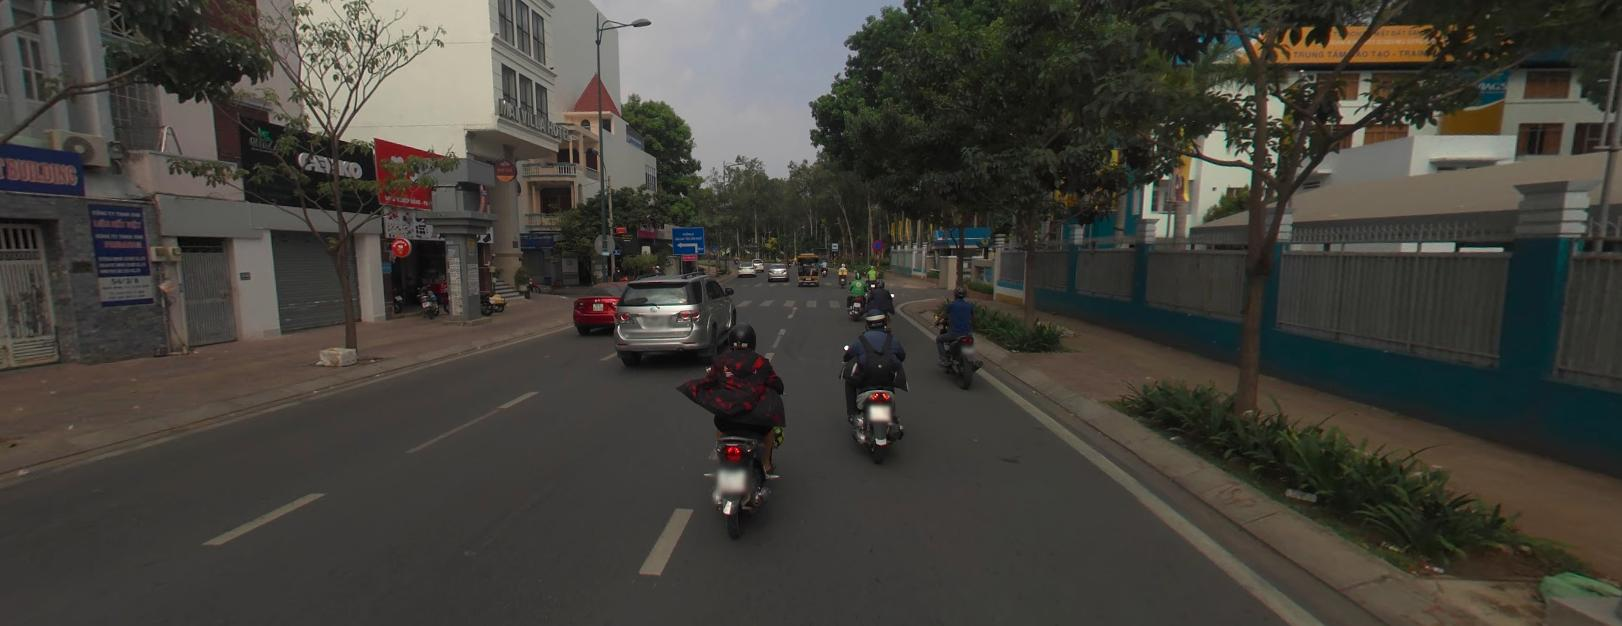Cam dung va do: (872, 238, 883, 249)
